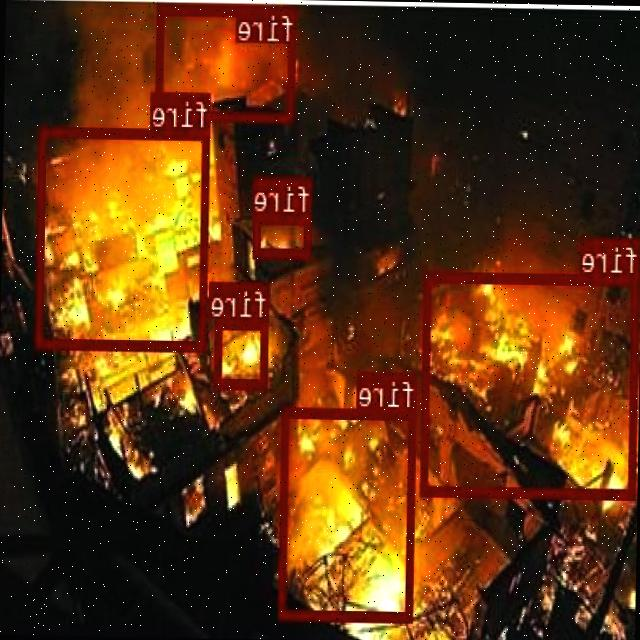fire: (422, 269, 640, 497), (36, 124, 212, 350), (280, 407, 418, 620), (156, 2, 298, 120), (216, 317, 270, 387), (255, 212, 312, 258)
